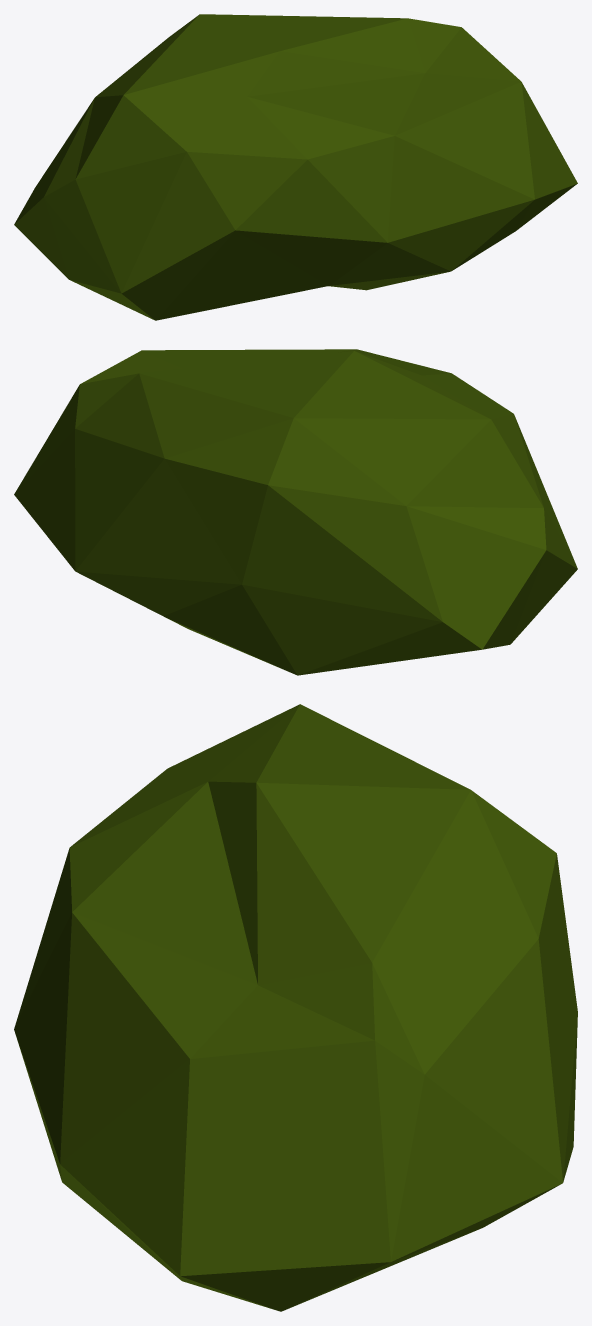
The model's file is island_bush_1.glb.
3 views of the same model, one above another, from view 1: azimuth 30°, elevation 25°; view 2: azimuth 150°, elevation 25°; view 3: azimuth 270°, elevation 25° (orthographic). The views are drawn at different scales.
Visible parts, largest first — view 1: Icosphere.004.1; view 2: Icosphere.004.1; view 3: Icosphere.004.1.
Boxes of the visible parts, x1,y1,x2,y2 form: Icosphere.004.1: [14, 14, 577, 320]; Icosphere.004.1: [14, 349, 577, 675]; Icosphere.004.1: [14, 704, 577, 1311].
Size of the model in its own units: 1.74 by 0.818 by 1.12.
